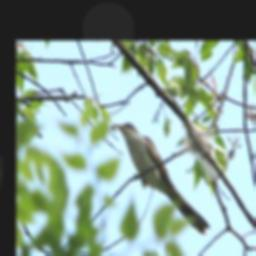Cuckoo: (113, 120, 211, 231)
